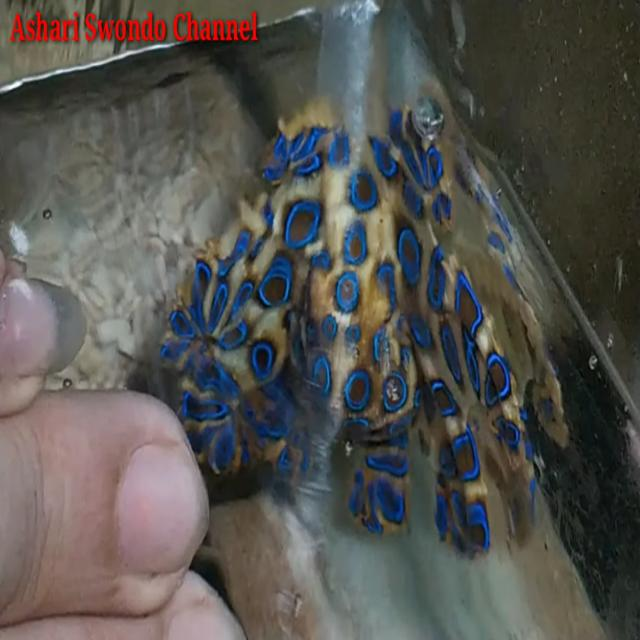blue_ringed_octopus: (161, 99, 538, 560)
